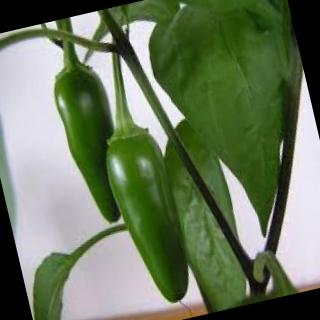Cabai Hijau: (105, 117, 191, 302), (52, 61, 123, 222)
